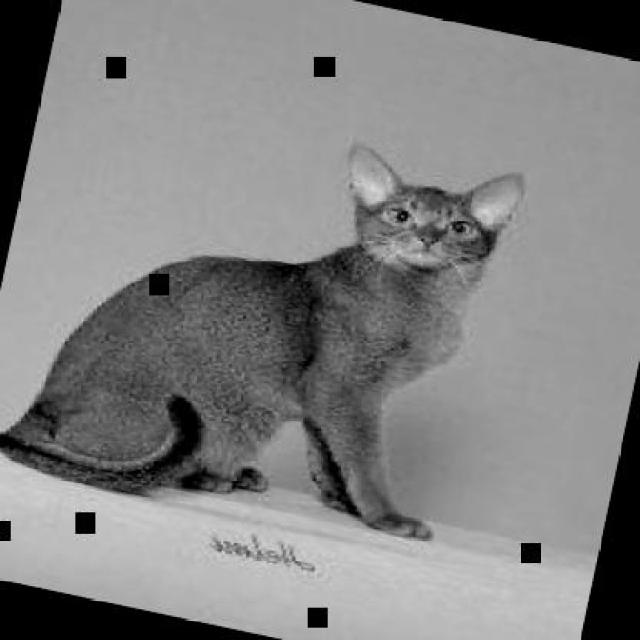cat: (0, 73, 532, 564)
